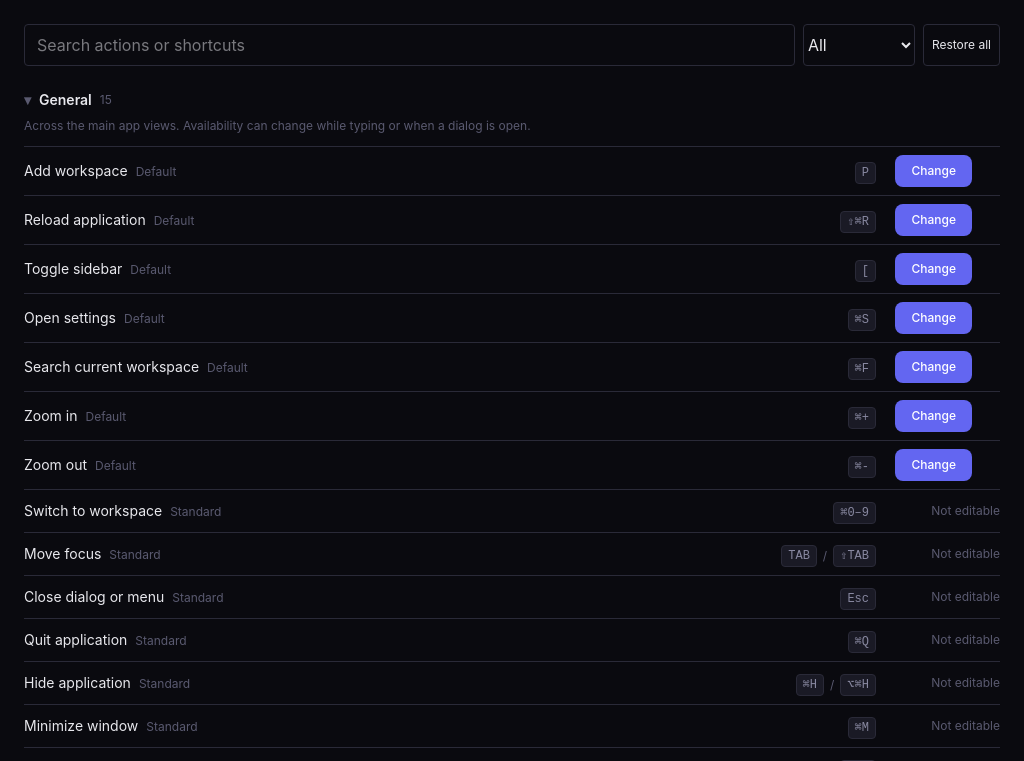
Scenario: finds bindings by conventional combination text
Type "cmd+k" into the field named "Search shortcuts" at coordinates (409, 45), box [24,24,795,66]
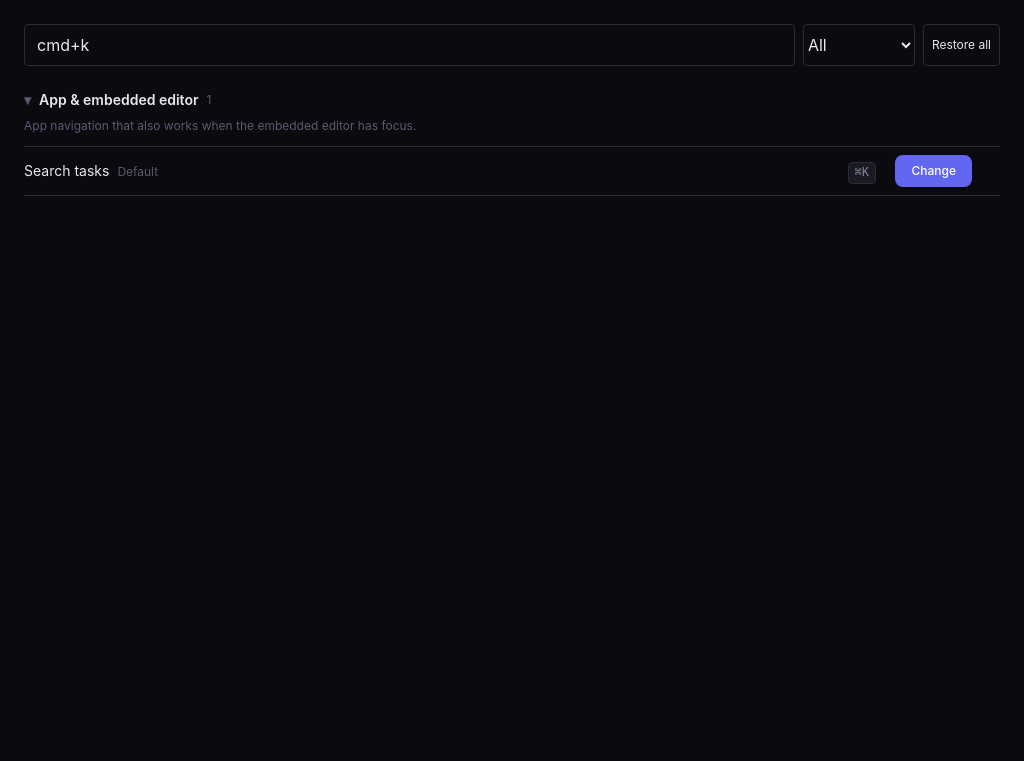
Now the text "Search tasks" is shown, box [24,161,109,181]
